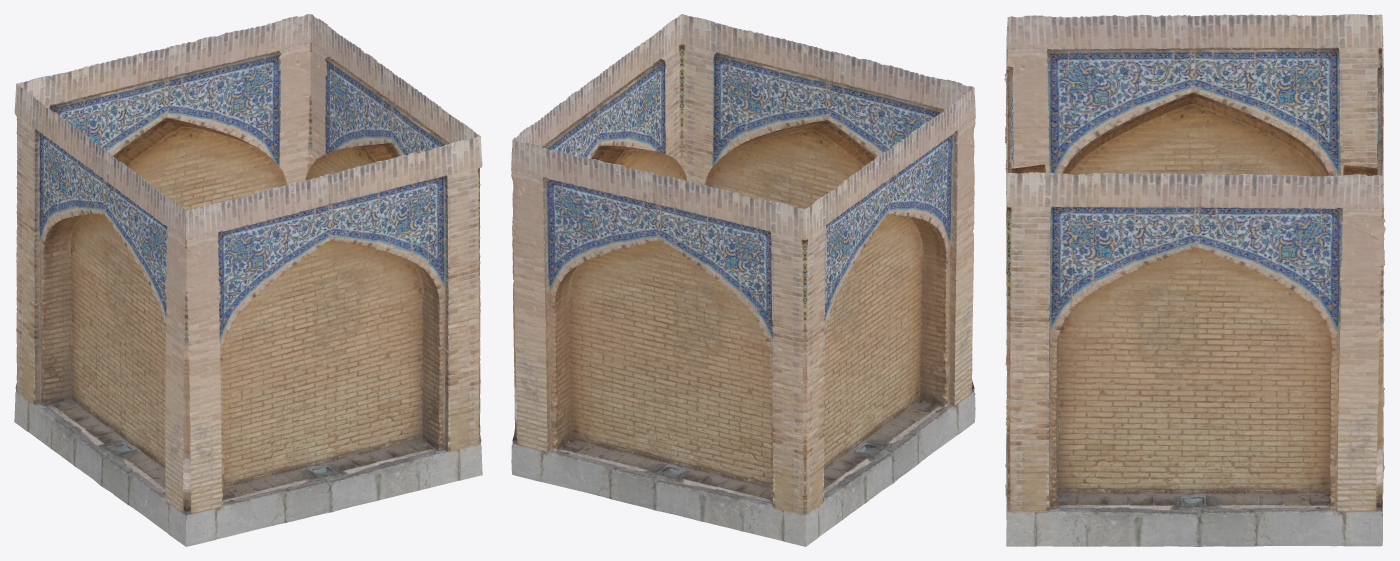
Rendered from vault_01.glb.
The picture shows the model from 3 angles, left to right: view 1: azimuth 30°, elevation 25°; view 2: azimuth 150°, elevation 25°; view 3: azimuth 270°, elevation 25°; orthographic projection. The views are drawn at different scales.
Parts seen in each view (by area): view 1: Object_2; view 2: Object_2; view 3: Object_2.
Boxes of the visible parts, x1=… form: Object_2: x1=14, y1=14, x2=482, y2=546; Object_2: x1=511, y1=14, x2=975, y2=546; Object_2: x1=1004, y1=14, x2=1385, y2=546.
Bounding box in the file's own units: 50.86 × 54.96 × 50.86.
Materials: 1 (1 with a texture image).
